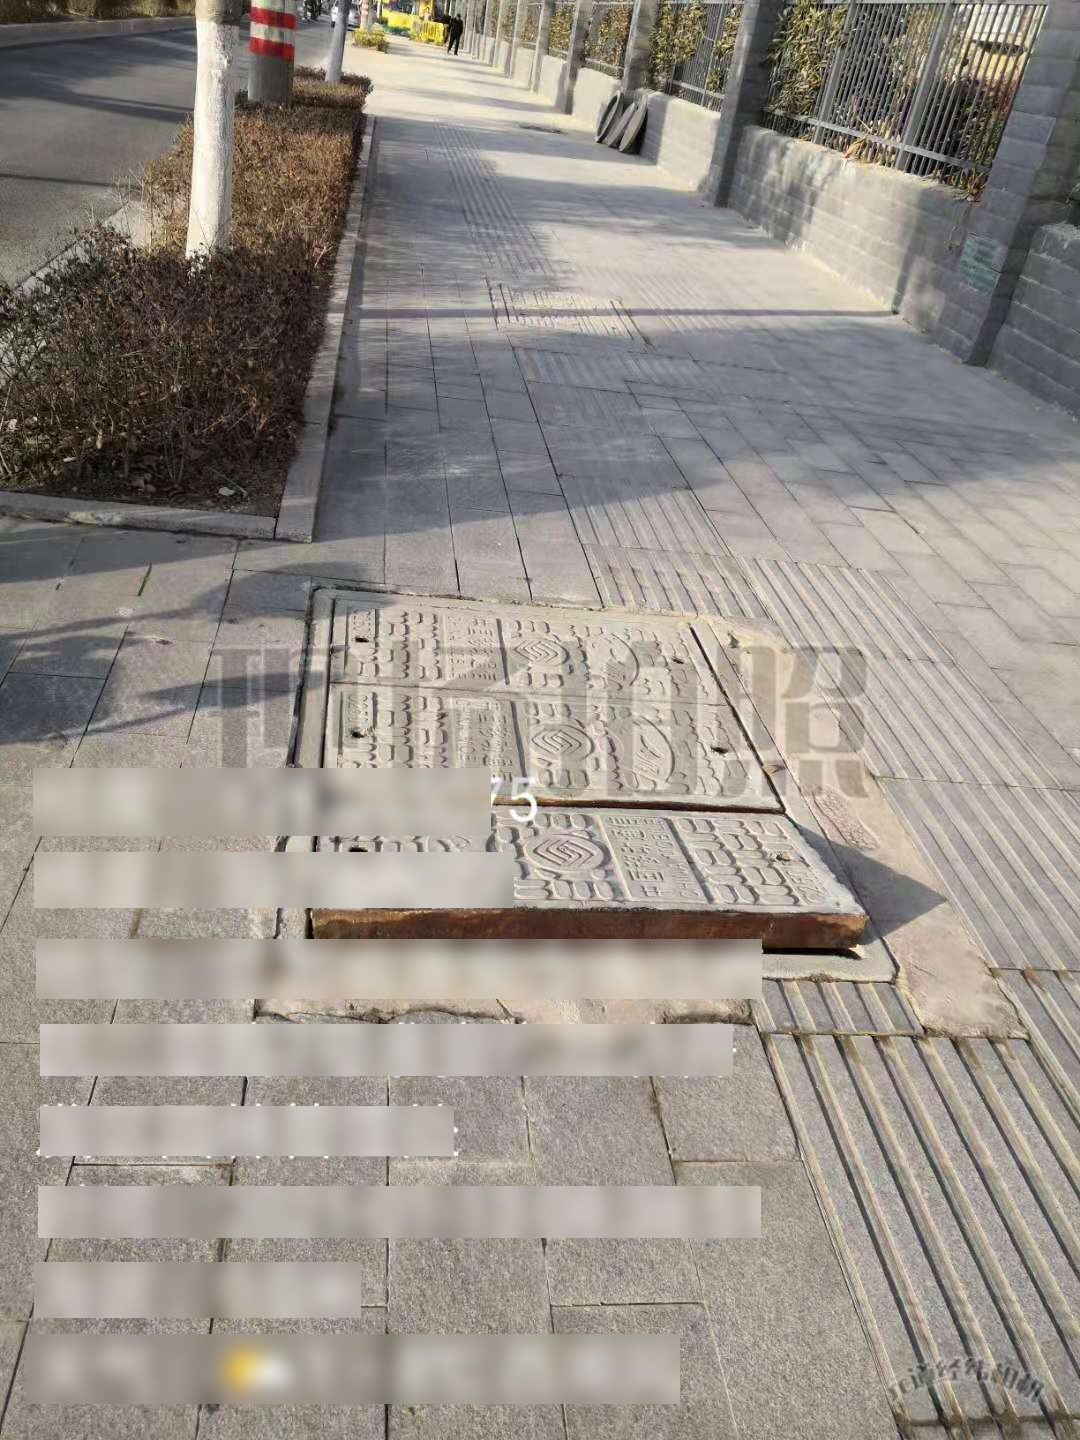uncovered: (258, 588, 898, 985)
